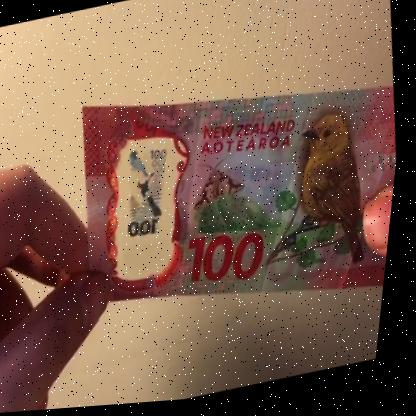100B: (114, 137, 185, 261)
